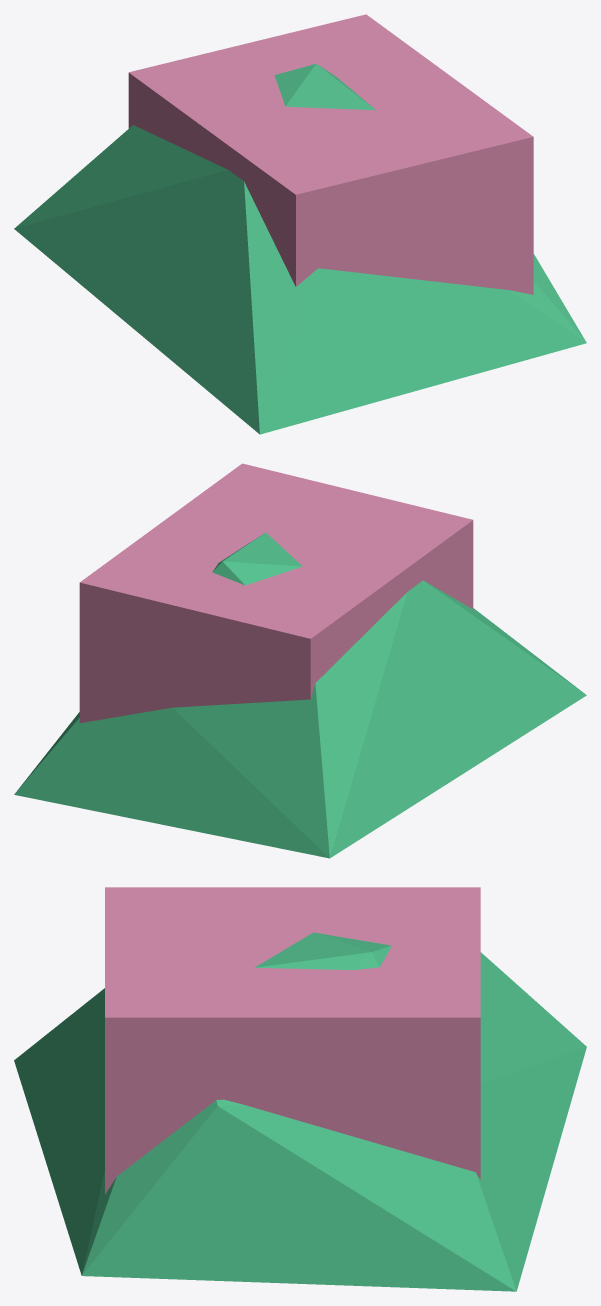
File: rock_01_a_small_c.dae
3 views of the same model, one above another, from view 1: azimuth 30°, elevation 25°; view 2: azimuth 150°, elevation 25°; view 3: azimuth 270°, elevation 25° (orthographic). The views are drawn at different scales.
Visible parts, largest first — view 1: Colmesh-1, Untitled; view 2: Colmesh-1, Untitled; view 3: Colmesh-1, Untitled.
Part boxes in pixels (x1=…): Colmesh-1: x1=14, y1=64, x2=586, y2=434; Untitled: x1=128, y1=14, x2=533, y2=294; Colmesh-1: x1=14, y1=532, x2=586, y2=858; Untitled: x1=79, y1=463, x2=473, y2=723; Colmesh-1: x1=14, y1=932, x2=586, y2=1291; Untitled: x1=105, y1=887, x2=480, y2=1194.
Bounding box in the file's own units: 0.5427 × 0.6562 × 0.3253.
